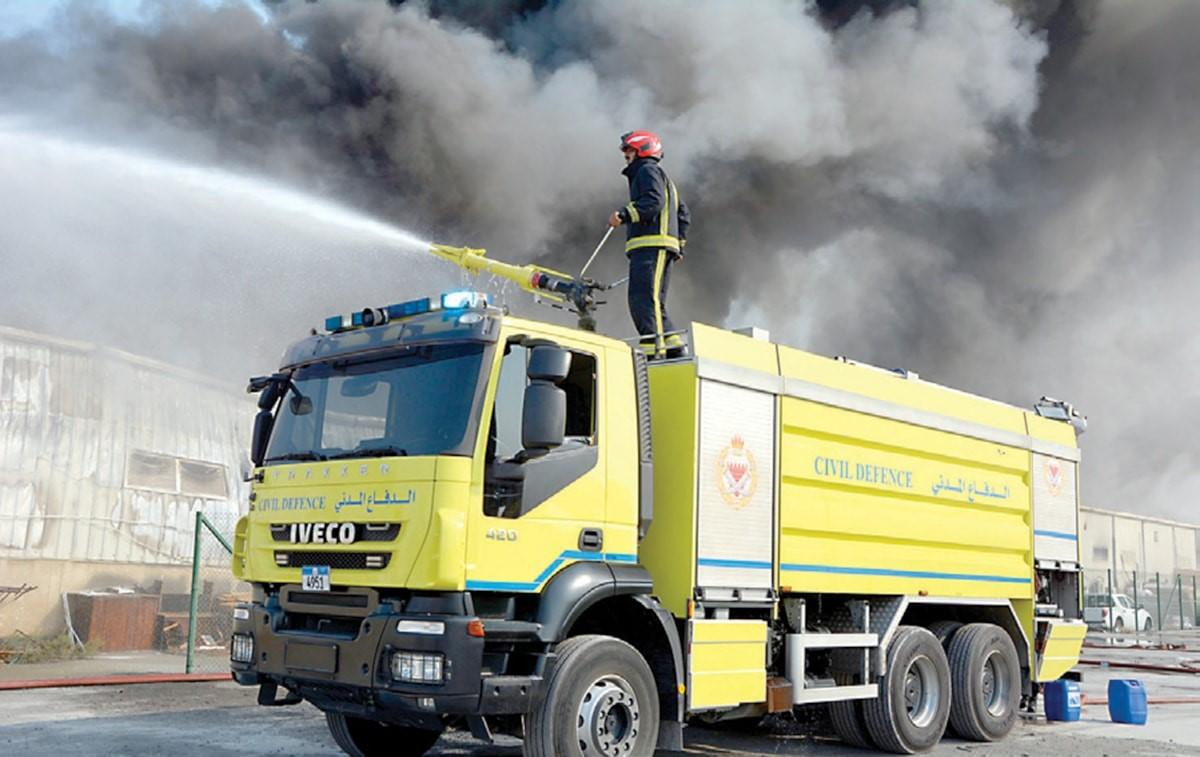firetruck_off: (224, 287, 1086, 752)
